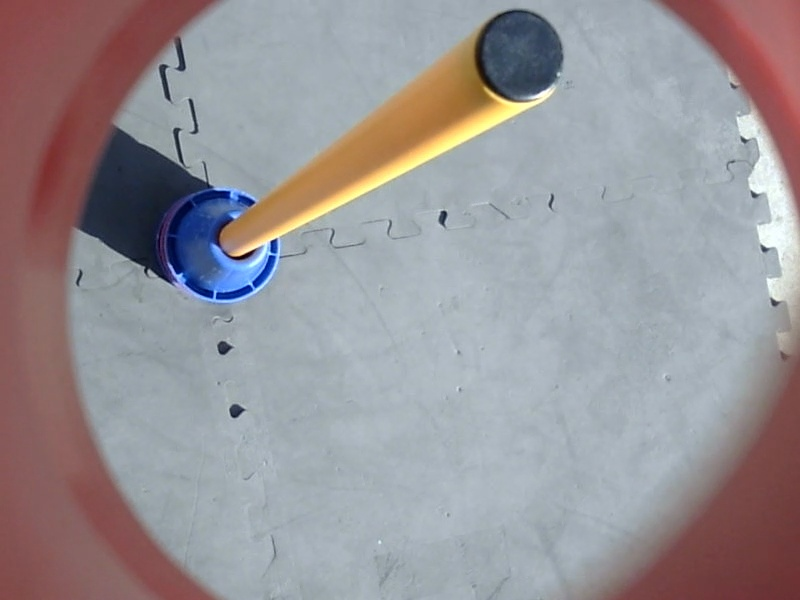tip: (471, 5, 569, 109)
